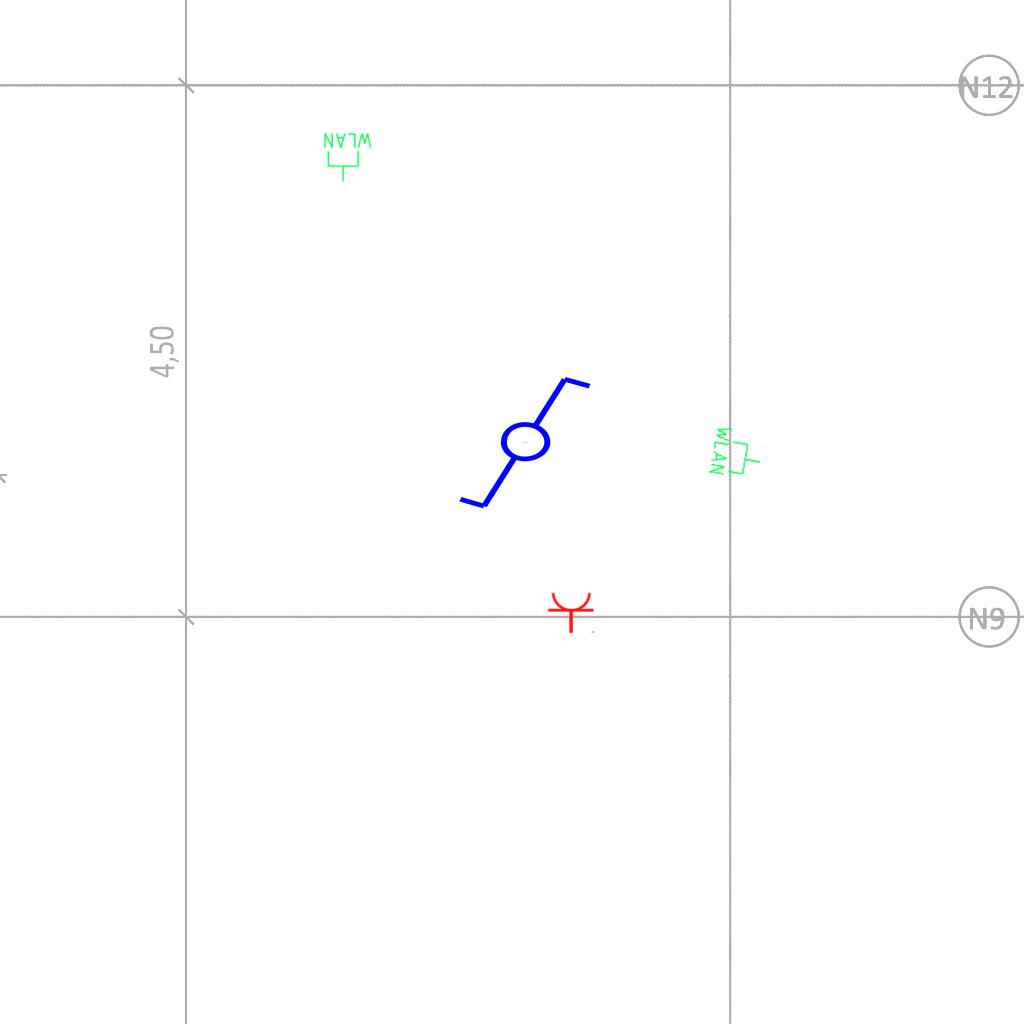Schukosteckdose_einfach: (547, 591, 597, 634)
WLAN: (706, 422, 768, 484), (322, 131, 374, 183)
Wechselschalter: (455, 372, 612, 516)
